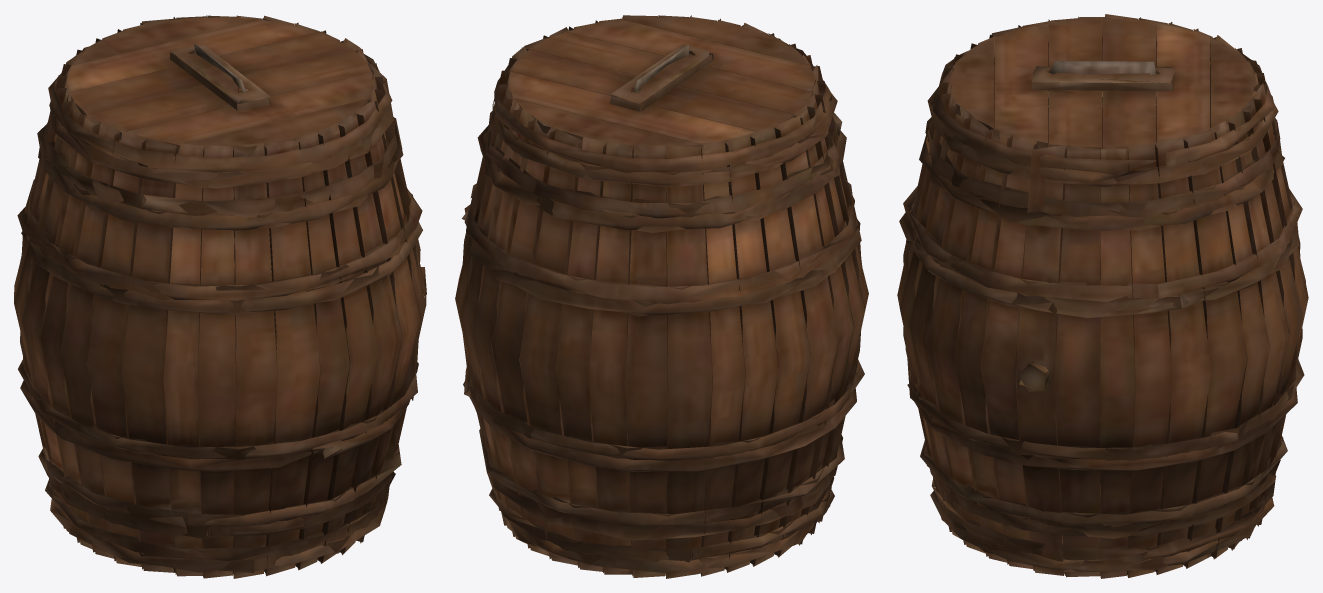
The model's file is barrel.glb.
The picture shows the model from 3 angles, left to right: view 1: azimuth 30°, elevation 25°; view 2: azimuth 150°, elevation 25°; view 3: azimuth 270°, elevation 25°; orthographic projection.
Parts seen in each view (by area): view 1: wooden_barrels_01_barrel01; view 2: wooden_barrels_01_barrel01; view 3: wooden_barrels_01_barrel01.
Part boxes in pixels (x1,y1,x2,y2): wooden_barrels_01_barrel01: [14, 15, 426, 578]; wooden_barrels_01_barrel01: [455, 15, 868, 578]; wooden_barrels_01_barrel01: [897, 14, 1308, 578].
Size of the model in its own units: 0.7616 by 0.9185 by 0.7616.
Materials: 1 (1 with a texture image).
